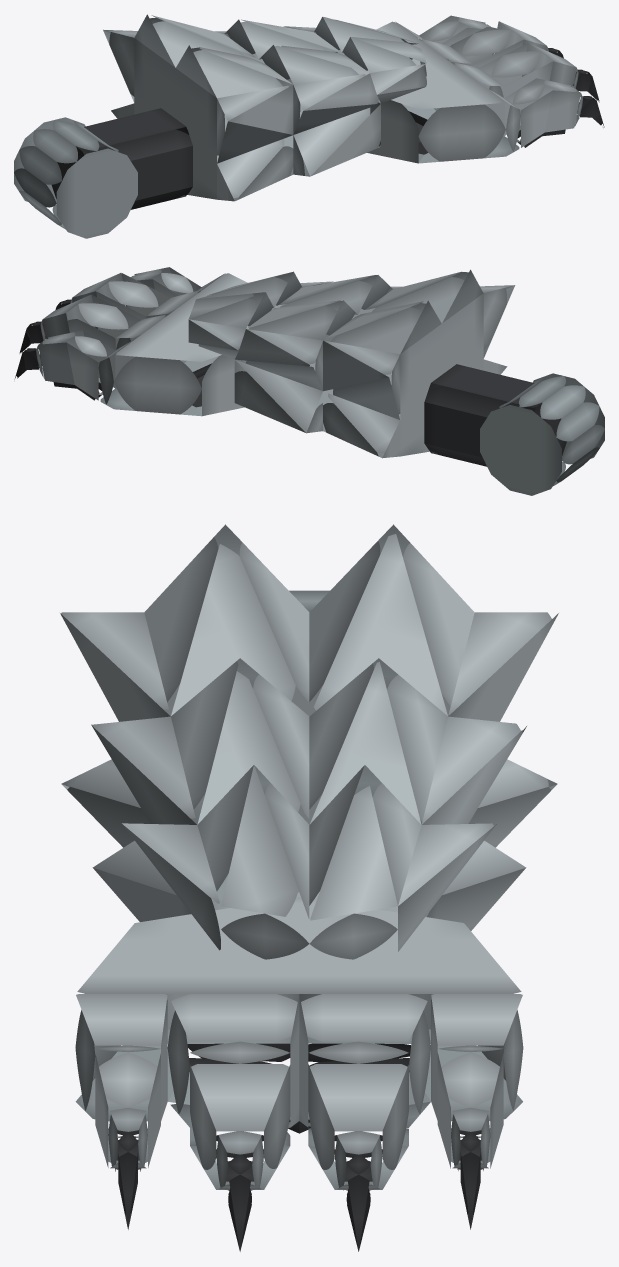
File: HoundArmR.obj
The picture shows the model from 3 angles, top to bottom: view 1: azimuth 30°, elevation 25°; view 2: azimuth 150°, elevation 25°; view 3: azimuth 270°, elevation 25°; orthographic projection. The views are drawn at different scales.
Parts seen in each view (by area): view 1: Forearm, cuboid, cylinder, Arm; view 2: Forearm, cuboid, cylinder, Arm; view 3: Forearm, cuboid.
Boxes of the visible parts, x1,y1,x2,y2 form: Forearm: (103,14,426,201); cuboid: (352,15,604,163); cylinder: (14,117,137,238); Arm: (51,108,192,209); Forearm: (188,269,515,458); cuboid: (14,267,248,416); cylinder: (480,373,604,495); Arm: (424,364,566,466); Forearm: (60,524,558,959); cuboid: (75,897,523,1251).
Size of the model in its own units: 0.9261 by 0.2776 by 0.3663.
1 material, 1 textured.
